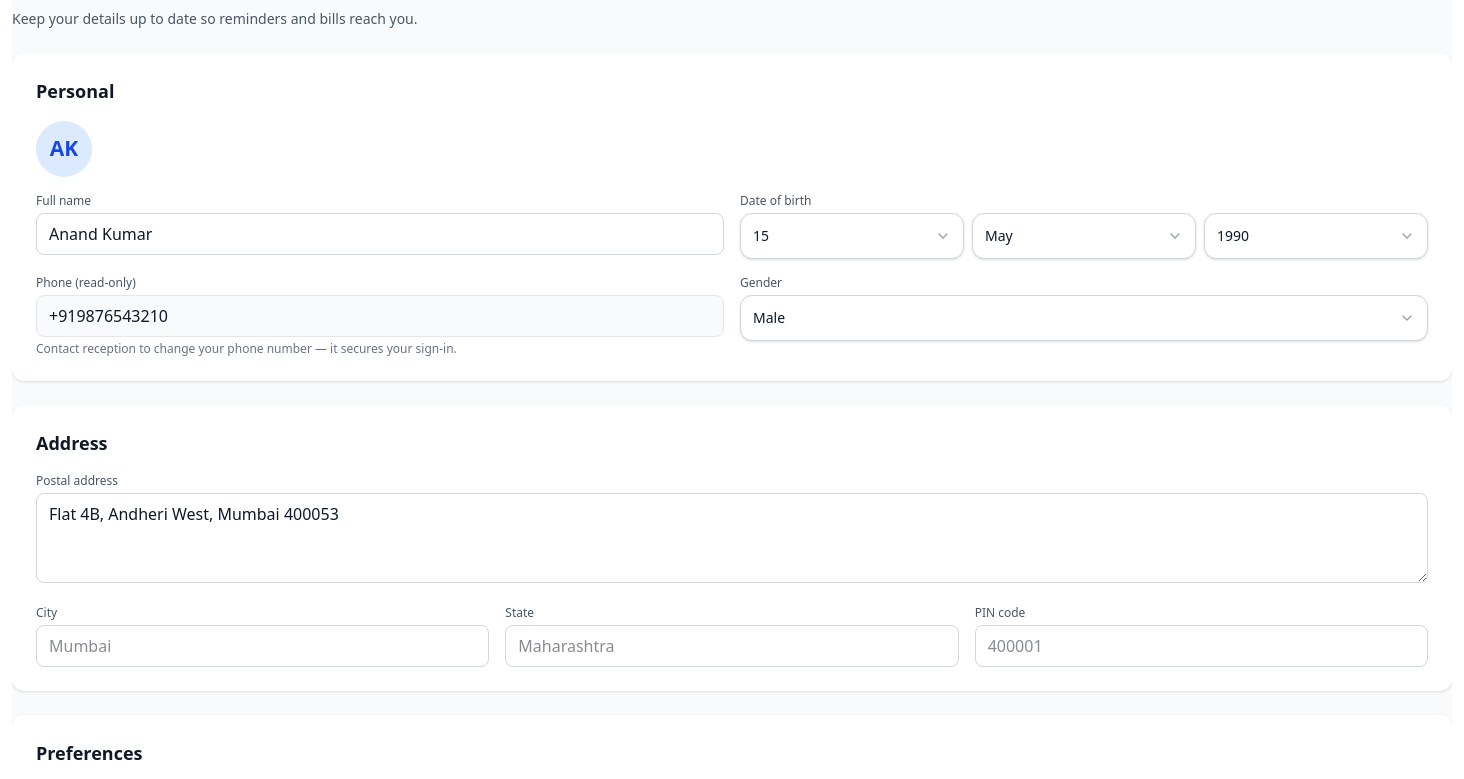
Test: Patient profile page — gap #5 piece 3e › Cancel resets the form to the initial GET payload
The image size is (1464, 779).
Replace the text in the field with test id "patient-profile-name-input" with "Different Name": (380, 234) [36, 213, 724, 255]
(page scrolled)
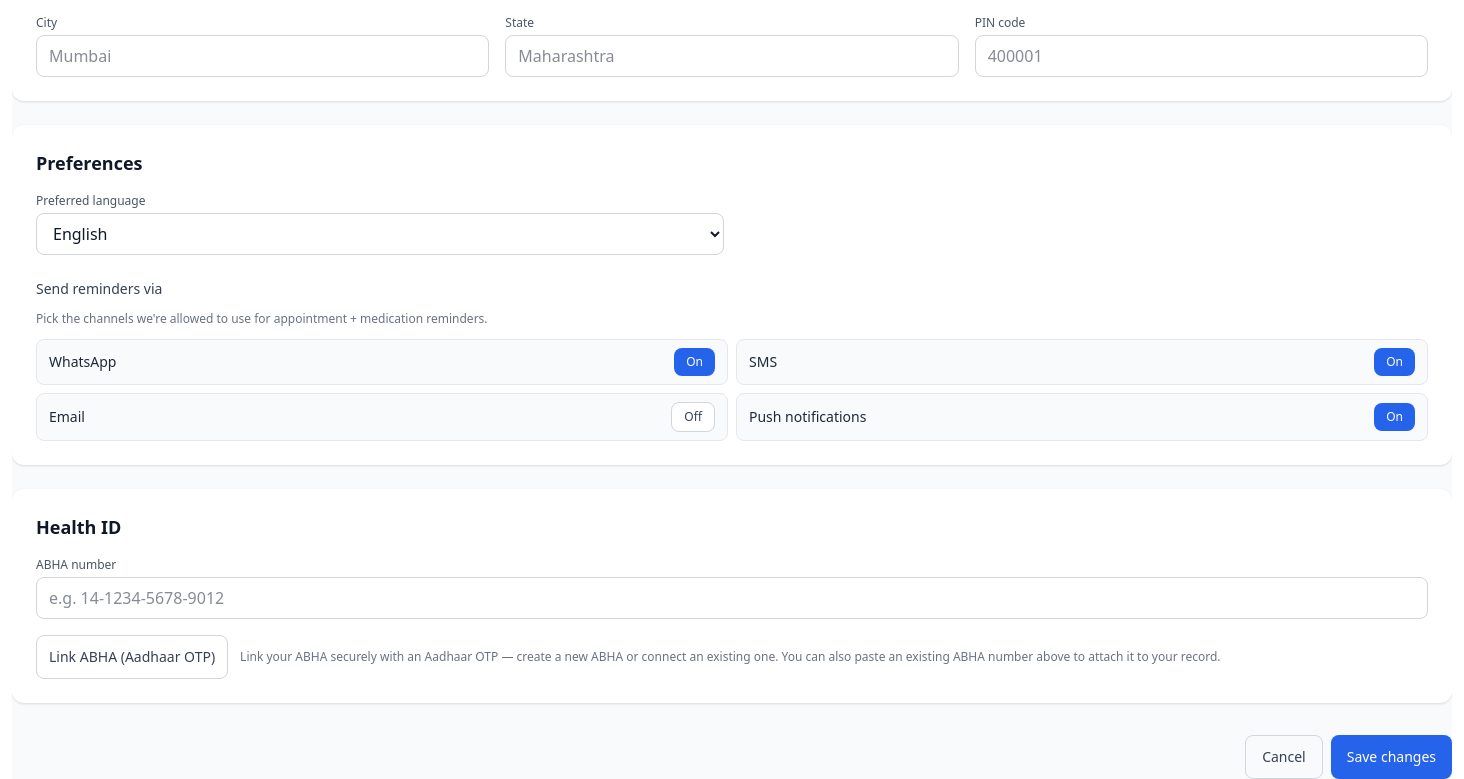
Now the button with test id "patient-profile-cancel-btn" is enabled
Click the button with test id "patient-profile-cancel-btn": (1284, 757) [1245, 735, 1323, 778]
(page scrolled)
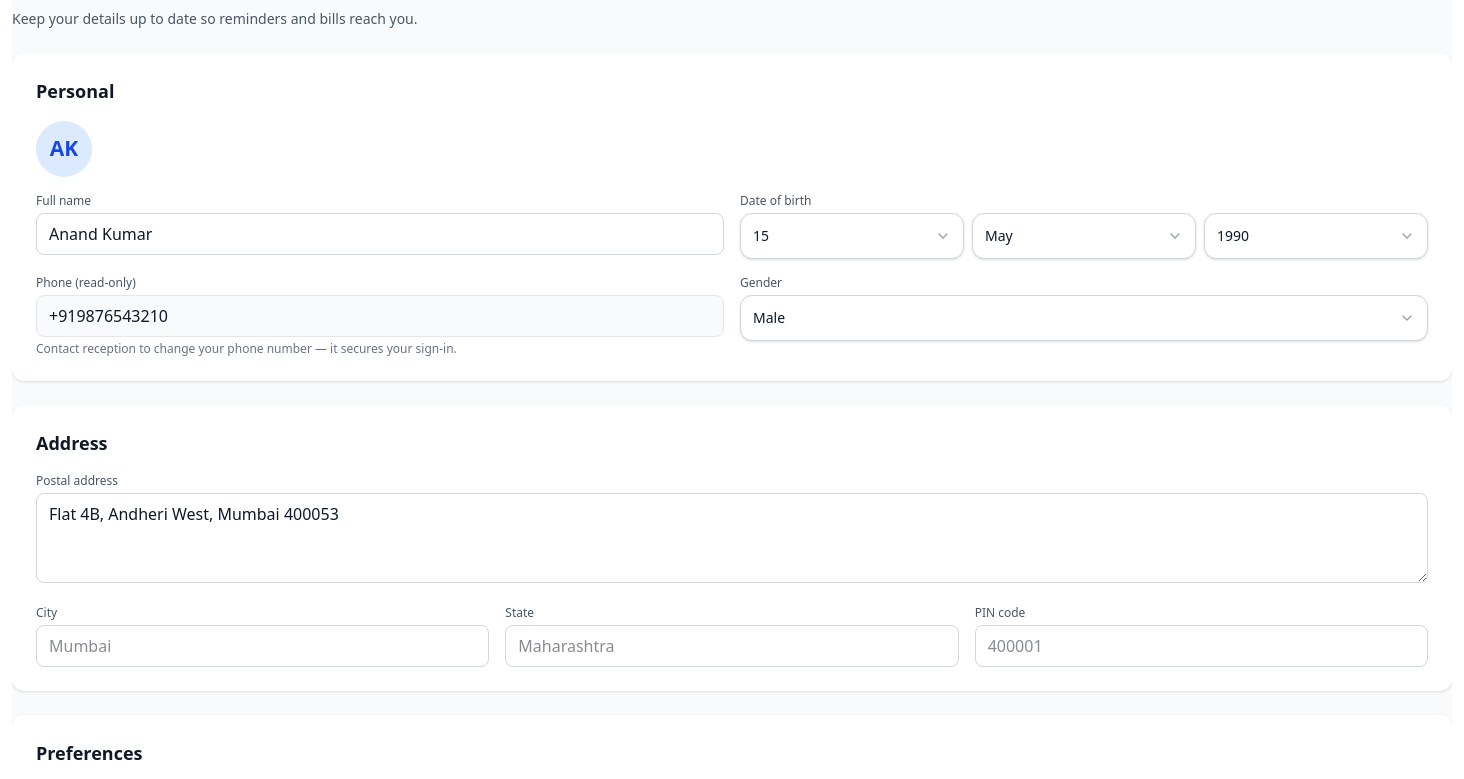
Now the field with test id "patient-profile-name-input" holds "Anand Kumar", box [36, 213, 724, 255]
